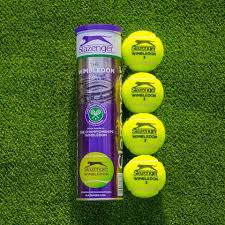tennis_ball: (122, 155, 167, 198), (121, 29, 165, 72), (121, 113, 166, 154), (121, 72, 166, 112), (79, 151, 114, 189)
